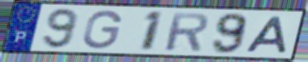1: (142, 10, 164, 53)
9: (209, 12, 249, 56), (40, 7, 79, 50)
A: (244, 15, 290, 55)
G: (81, 9, 124, 50)
R: (163, 11, 210, 52)
